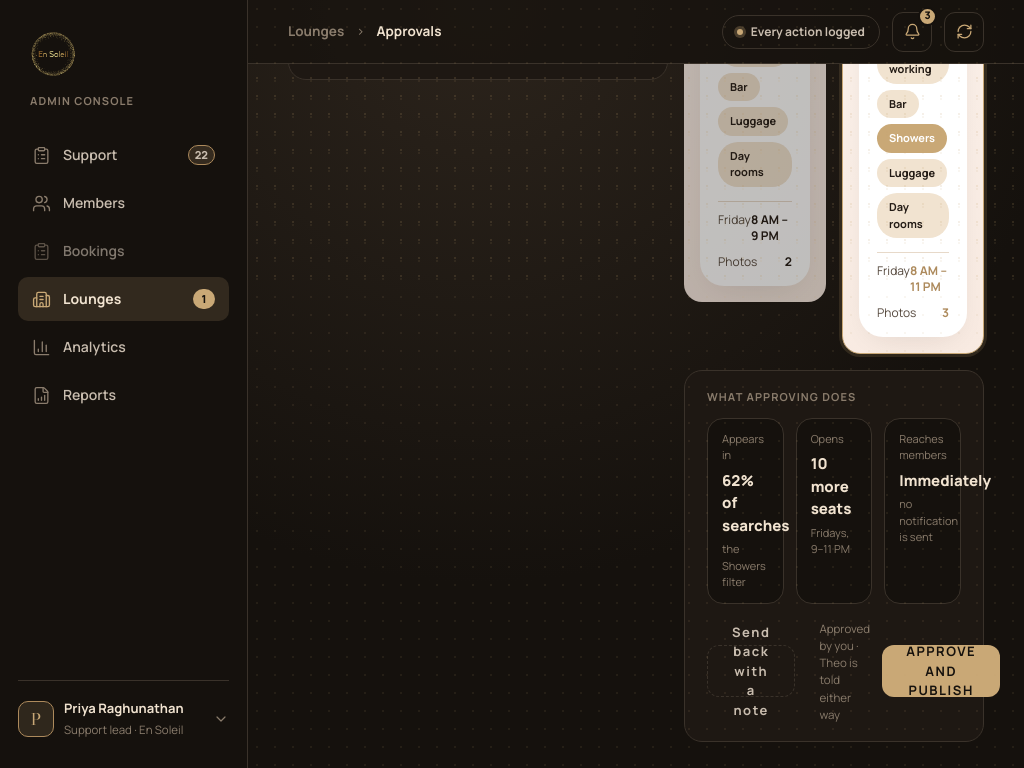
Test: Approvals queue (/admin/lounges/approvals) › sends the changes back with a note, leaving the queue empty
(page scrolled)
Step 1. Click the button "Send back with a note" → [751, 671], box [707,645,796,697]
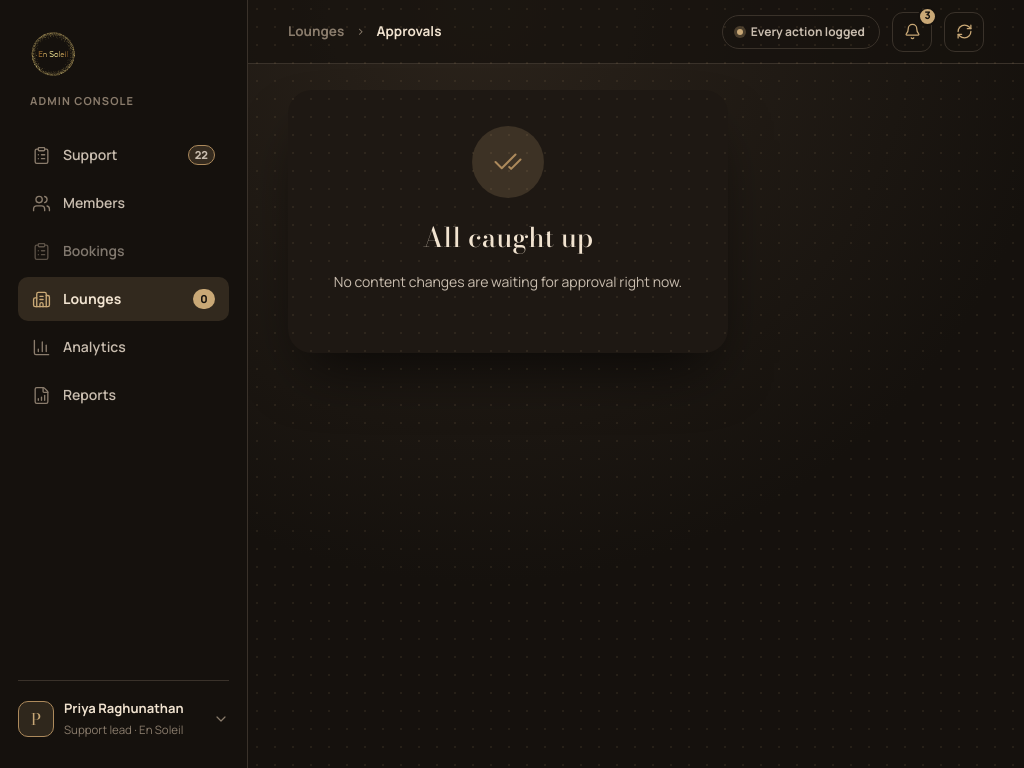
Result: the heading "All caught up" is shown at [423,217,593,258]
